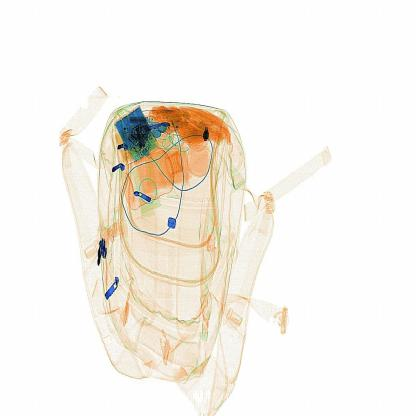wrench: (196, 114, 223, 155)
